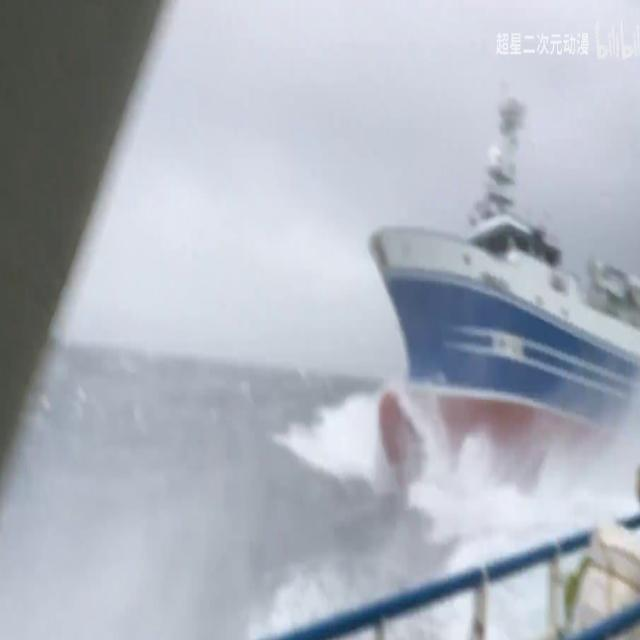houseboat: (354, 100, 640, 510)
